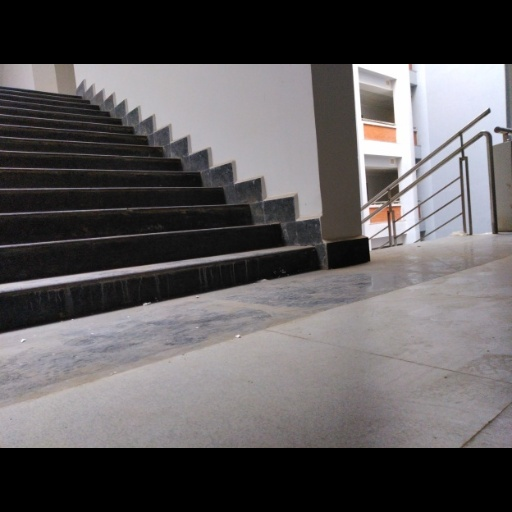Stairs: (0, 87, 318, 329)
